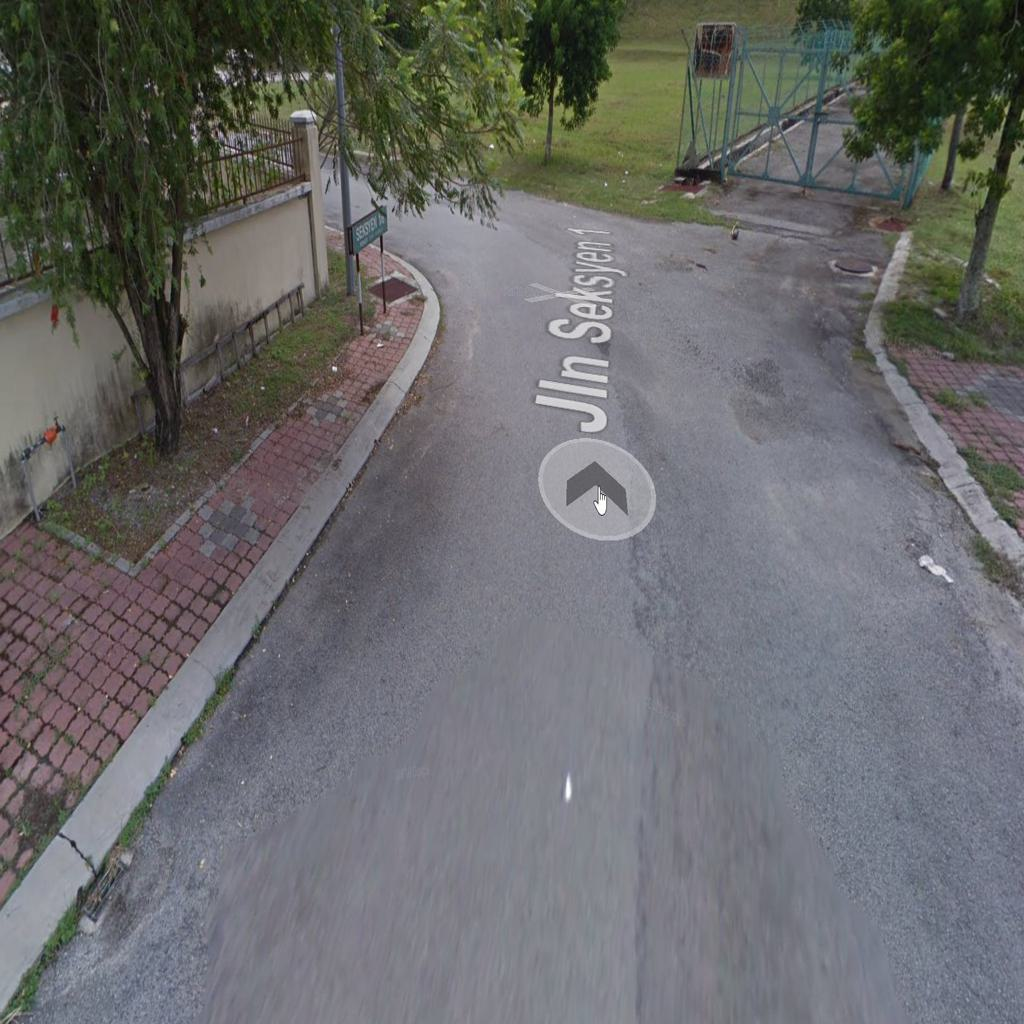Junction: (322, 151, 619, 358)
